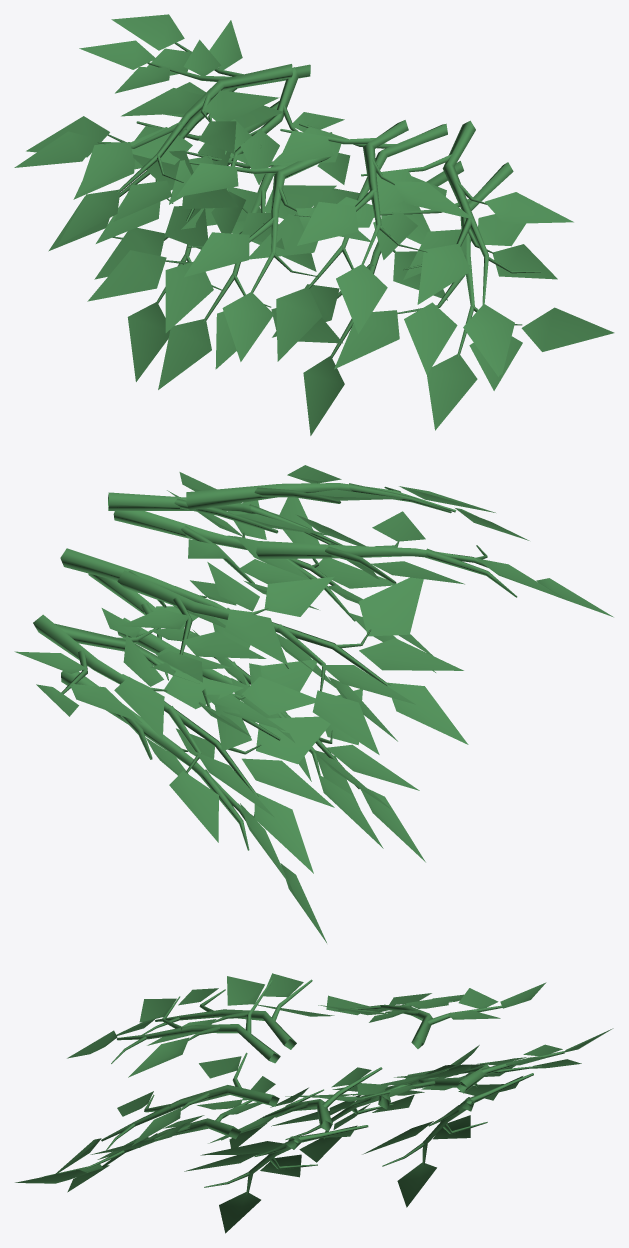
Rendered from bush2.fbx.
3 views of the same model, one above another, from view 1: azimuth 30°, elevation 25°; view 2: azimuth 150°, elevation 25°; view 3: azimuth 270°, elevation 25° (orthographic). The views are drawn at different scales.
Parts seen in each view (by area): view 1: bush3; view 2: bush3; view 3: bush3.
Part boxes in pixels (x1,y1,x2,y2): bush3: (14, 14, 614, 435); bush3: (14, 465, 613, 942); bush3: (15, 973, 613, 1233).
Size of the model in its own units: 4.17 by 3.1 by 6.58.
